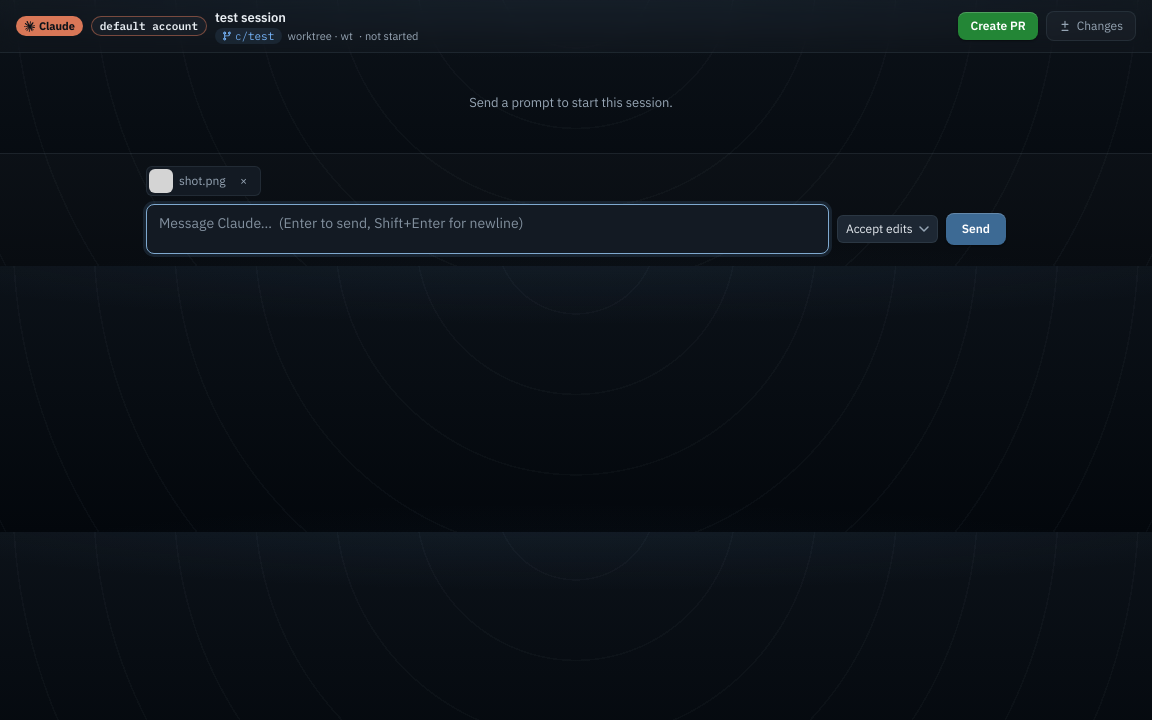
it: ChatView image paste › saves a pasted image via the api and shows a removable chip
Expected: the text "shot.png" is shown, [179, 172, 226, 190]
Click the button named "Remove shot.png" at [244, 180], box [232, 168, 256, 192]
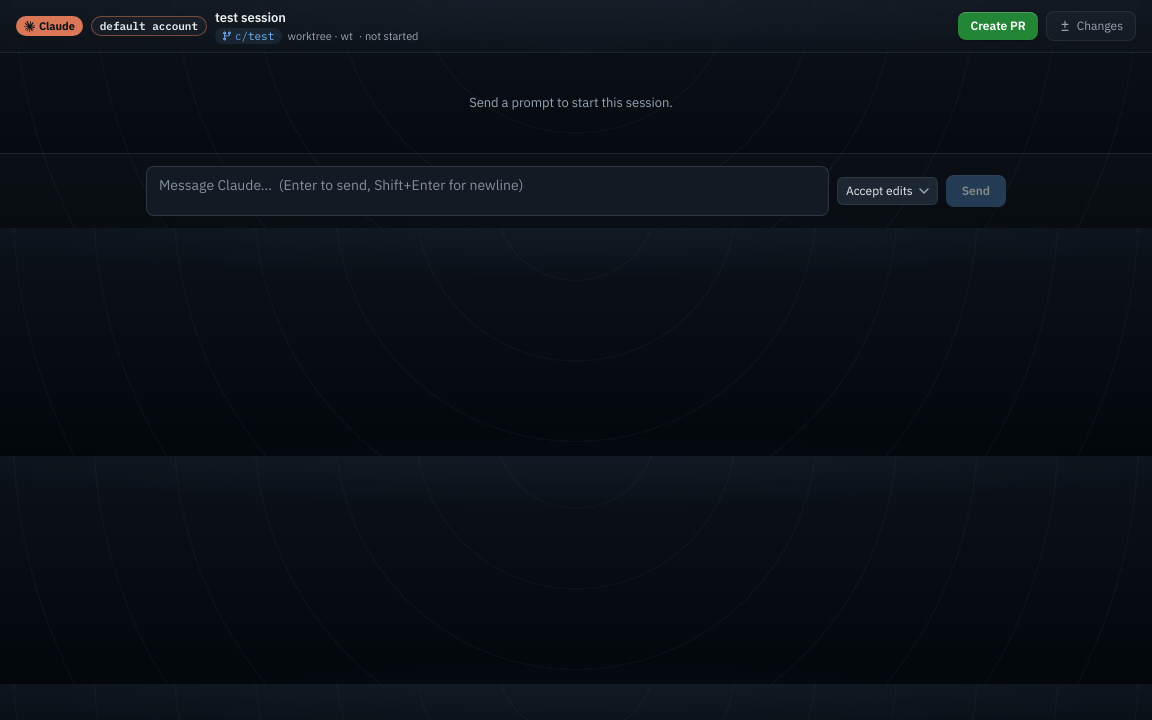
Expected: the text "shot.png" is gone
